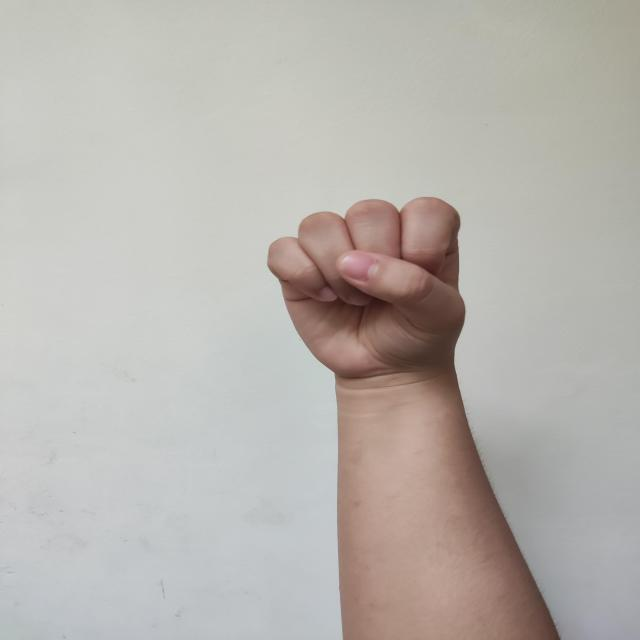S: (267, 196, 466, 378)
